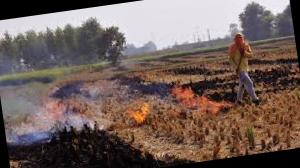Fire: (174, 80, 234, 118), (130, 106, 148, 126)
Smoke: (0, 50, 120, 147)
